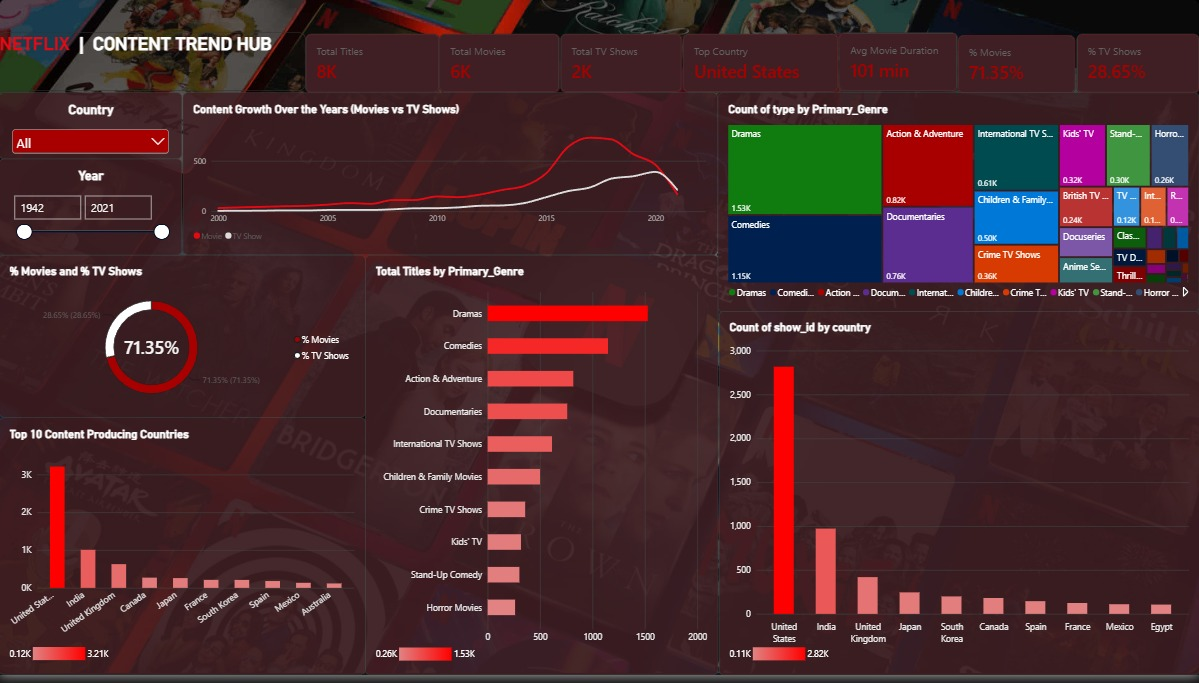

This screenshot's page, from the dashboard's own definition file:
{"tool":"powerbi","page":{"name":"Page 1","canvas":[1920,1080],"ordinal":0},"visuals":[{"type":"textbox","box":[0,52.3,490.1,92.4],"z":0},{"type":"cardVisual","fields":{"Data":["Table.Avg Movie Duration Display"]},"box":[1344.8,52.3,190.1,95.9],"z":1000},{"type":"cardVisual","fields":{"Data":["Table.Top Country"]},"box":[1093.6,54.1,249.4,94.2],"z":2000},{"type":"cardVisual","fields":{"Data":["Table.Total Movies"]},"box":[704.7,54.1,193.6,94.2],"z":3000},{"type":"cardVisual","fields":{"Data":["Table.Total Titles"]},"box":[490.1,54.1,215,95],"z":4000},{"type":"cardVisual","fields":{"Data":["Table.Total TV Shows"]},"box":[898.3,54.1,195.3,94.2],"z":5000},{"type":"lineChart","title":"Content Growth Over the Years (Movies vs TV Shows)","fields":{"Category":["netflix_titles.release_year"],"Series":["netflix_titles.type"],"Y":["Table.Total Titles"]},"box":[293,148.3,856.4,259.9],"z":6000},{"type":"donutChart","fields":{"Y":["Table.% Movies","Table.% TV Shows"]},"box":[0,407.6,586.2,260],"z":7000},{"type":"clusteredBarChart","fields":{"Category":["netflix_titles.Primary_Genre"],"Y":["Table.Total Titles"]},"box":[586.1,407.6,564.6,672.2],"z":8000},{"type":"clusteredColumnChart","title":"Top 10 Content Producing Countries","fields":{"Category":["netflix_titles.Primary_Country"],"Y":["Table.Total Titles"]},"box":[0,668.4,586.1,411.4],"z":9000},{"type":"cardVisual","fields":{"Data":["Table.% Movies"]},"box":[1534.9,55.8,188.4,94.2],"z":10000},{"type":"cardVisual","fields":{"Data":["Table.% TV Shows"]},"box":[1723.3,54.1,197.1,95.9],"z":11000},{"type":"treemap","fields":{"Group":["netflix_titles.Primary_Genre"],"Values":["CountNonNull(netflix_titles.type)"]},"box":[1150,147.5,770.3,350.8],"z":12000},{"type":"columnChart","fields":{"Category":["netflix_titles.country"],"Y":["CountNonNull(netflix_titles.show_id)"]},"box":[1151,498,769,582],"z":13000},{"type":"slicer","title":"Country","fields":{"Values":["netflix_titles.country"]},"box":[0,148.3,293,106.4],"z":13001},{"type":"slicer","title":"Year","fields":{"Values":["netflix_titles.release_year"]},"box":[0,254,293,154],"z":13002}]}

Visuals, with their boxes in screenshot pixels (x1, y1, x2, y2), scaled from the page's 1920x1080 canvas onto the 1199x683 screenshot:
textbox: 0, 33, 306, 92
cardVisual - Table.Avg Movie Duration Display: 840, 33, 959, 94
cardVisual - Table.Top Country: 683, 34, 839, 94
cardVisual - Table.Total Movies: 440, 34, 561, 94
cardVisual - Table.Total Titles: 306, 34, 440, 94
cardVisual - Table.Total TV Shows: 561, 34, 683, 94
"Content Growth Over the Years (Movies vs TV Shows)" lineChart: 183, 94, 718, 258
donutChart - Table.% Movies x Table.% TV Shows: 0, 258, 366, 422
clusteredBarChart - netflix_titles.Primary_Genre x Table.Total Titles: 366, 258, 719, 682
"Top 10 Content Producing Countries" clusteredColumnChart: 0, 423, 366, 682
cardVisual - Table.% Movies: 959, 35, 1076, 95
cardVisual - Table.% TV Shows: 1076, 34, 1198, 95
treemap - netflix_titles.Primary_Genre x CountNonNull(netflix_titles.type): 718, 93, 1198, 315
columnChart - netflix_titles.country x CountNonNull(netflix_titles.show_id): 719, 315, 1198, 682
"Country" slicer: 0, 94, 183, 161
"Year" slicer: 0, 161, 183, 258
